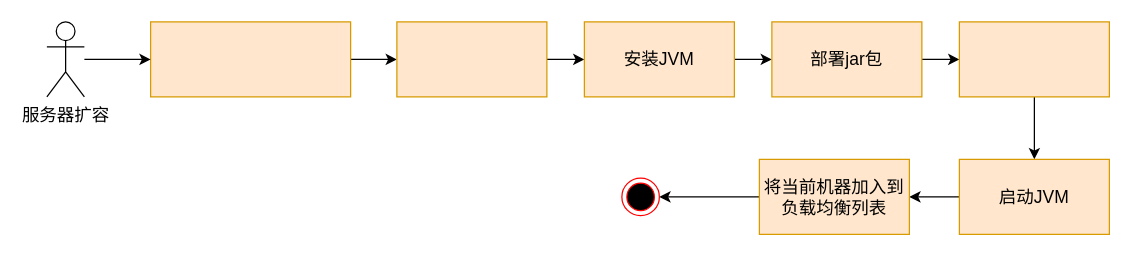
Image size: 1131x256. Some labels were removed from this diagram. The centre of each missing label's shape, as x and y in pixels:
在Iaas上申请服务器资源，得到一个只有操作系统的裸的服务器: point 250,59
统一操作系统 各种配置: point 471,59
配置JVM参数: point 1033,59
